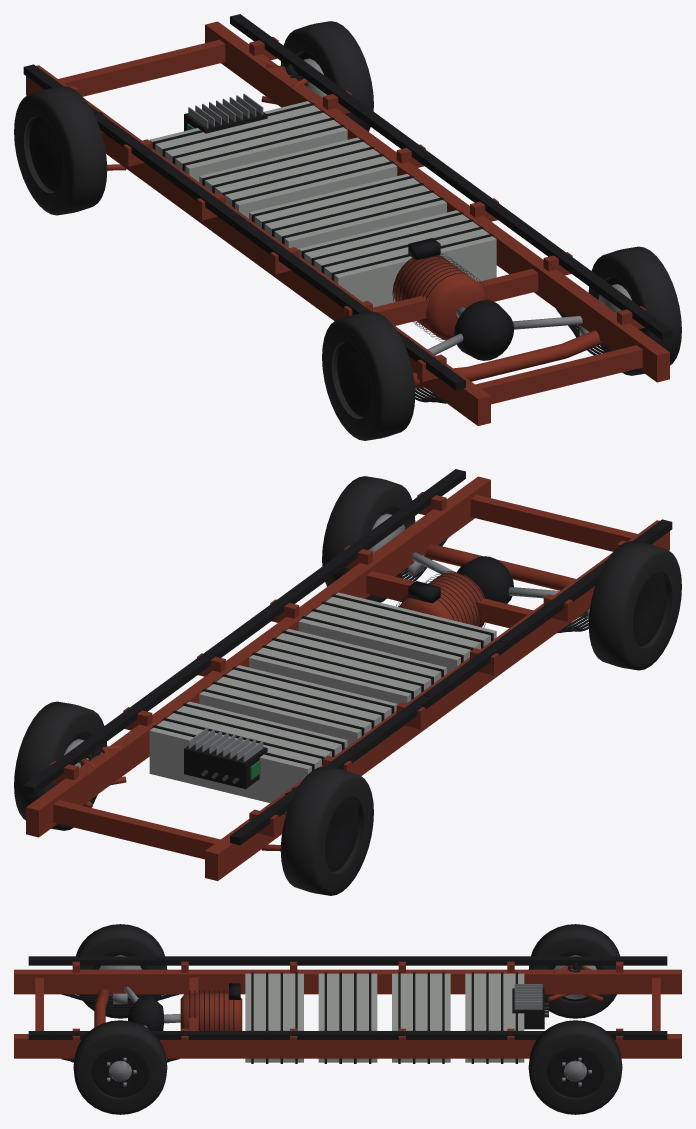
The model's file is harrow_h31.glb.
The picture shows the model from 3 angles, top to bottom: view 1: azimuth 30°, elevation 25°; view 2: azimuth 150°, elevation 25°; view 3: azimuth 270°, elevation 25°; orthographic projection. The views are drawn at different scales.
Visible parts, largest first — view 1: rail_R, wheel_FL, wheel_BL, crate_3, crate_1, crate_2, crate_0, mount_rail_R, rail_L, mount_rail_L, motor, wheel_BR (+7 smaller); view 2: rail_R, wheel_BL, wheel_FL, crate_0, crate_1, crate_3, crate_2, mount_rail_R, rail_L, mount_rail_L, wheel_FR, wheel_BR (+7 smaller); view 3: rail_L, rail_R, wheel_BR, wheel_FR, mount_rail_L, mount_rail_R, crate_2, crate_1, crate_3, wheel_FL, crate_0, wheel_BL (+9 smaller).
Boxes of the visible parts, x1=… form: rail_R: x1=205, y1=21, x2=669, y2=382; wheel_FL: x1=14, y1=86, x2=107, y2=215; wheel_BL: x1=322, y1=311, x2=415, y2=440; crate_3: x1=298, y1=210, x2=496, y2=307; crate_1: x1=199, y1=137, x2=397, y2=218; crate_2: x1=249, y1=174, x2=446, y2=249; crate_0: x1=149, y1=101, x2=347, y2=181; mount_rail_R: x1=230, y1=14, x2=672, y2=339; rail_L: x1=26, y1=65, x2=490, y2=425; mount_rail_L: x1=23, y1=64, x2=465, y2=390; motor: x1=392, y1=238, x2=486, y2=341; wheel_BR: x1=588, y1=246, x2=681, y2=375; rail_R: x1=26, y1=476, x2=490, y2=837; wheel_BL: x1=588, y1=541, x2=681, y2=670; wheel_FL: x1=280, y1=766, x2=373, y2=895; crate_0: x1=149, y1=701, x2=347, y2=802; crate_1: x1=199, y1=665, x2=397, y2=745; crate_3: x1=298, y1=592, x2=496, y2=673; crate_2: x1=249, y1=629, x2=446, y2=704; mount_rail_R: x1=23, y1=469, x2=465, y2=794; rail_L: x1=205, y1=520, x2=669, y2=880; mount_rail_L: x1=230, y1=519, x2=672, y2=845; wheel_FR: x1=14, y1=701, x2=107, y2=830; wheel_BR: x1=322, y1=476, x2=415, y2=602; rail_L: x1=14, y1=969, x2=681, y2=994; rail_R: x1=14, y1=1034, x2=681, y2=1058; wheel_BR: x1=73, y1=1020, x2=167, y2=1114; wheel_FR: x1=528, y1=1020, x2=622, y2=1114; mount_rail_L: x1=28, y1=956, x2=667, y2=965; mount_rail_R: x1=28, y1=1031, x2=667, y2=1039; crate_2: x1=318, y1=972, x2=377, y2=1063; crate_1: x1=392, y1=972, x2=450, y2=1063; crate_3: x1=245, y1=972, x2=303, y2=1063; wheel_FL: x1=528, y1=924, x2=619, y2=1018; crate_0: x1=465, y1=972, x2=524, y2=1063; wheel_BL: x1=76, y1=924, x2=167, y2=1018.
Size of the model in its own units: 1.75 by 0.64 by 4.55.
